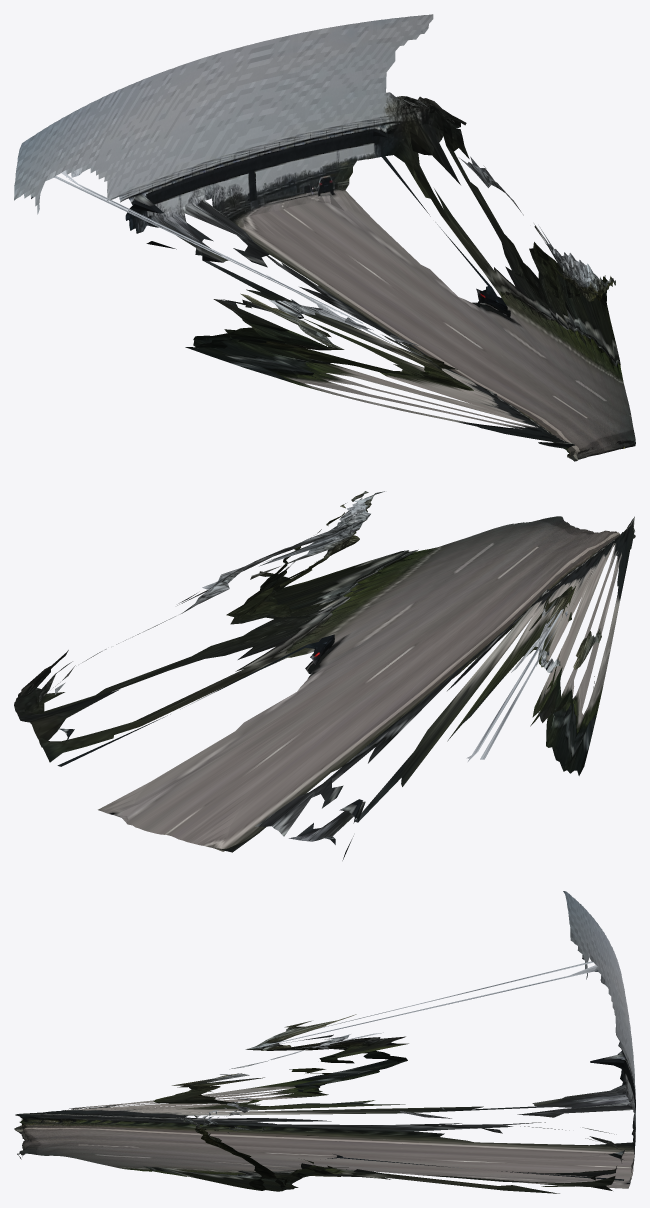
3 views of the same model, one above another, from view 1: azimuth 30°, elevation 25°; view 2: azimuth 150°, elevation 25°; view 3: azimuth 270°, elevation 25° (orthographic). The views are drawn at different scales.
Visible parts, largest first — view 1: defaultobject; view 2: defaultobject; view 3: defaultobject.
Boxes of the visible parts, x1,y1,x2,y2 form: defaultobject: (14,14,635,461); defaultobject: (14,491,635,860); defaultobject: (14,891,635,1193).
Bounding box in the file's own units: 33.04 × 12.82 × 44.71.
1 material, 1 textured.
